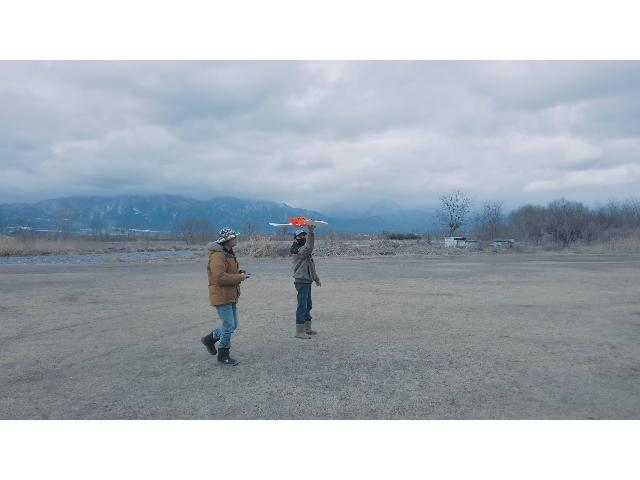Anti-Drone: (268, 213, 328, 229)
